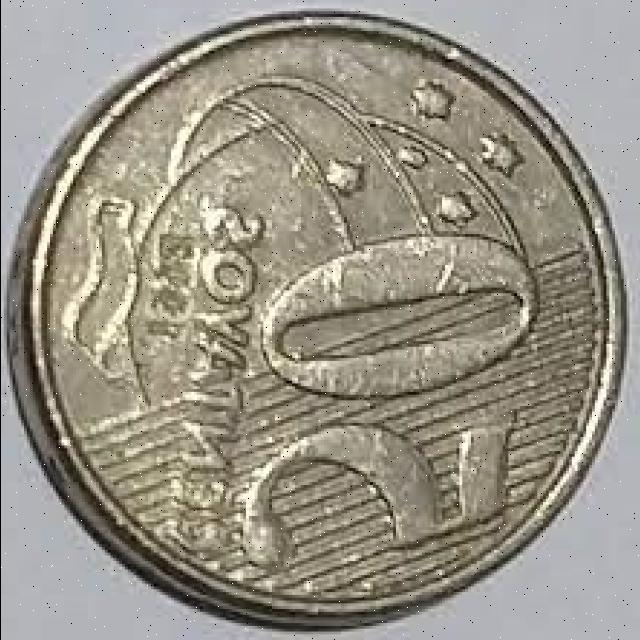50 cent: (2, 5, 620, 628)
